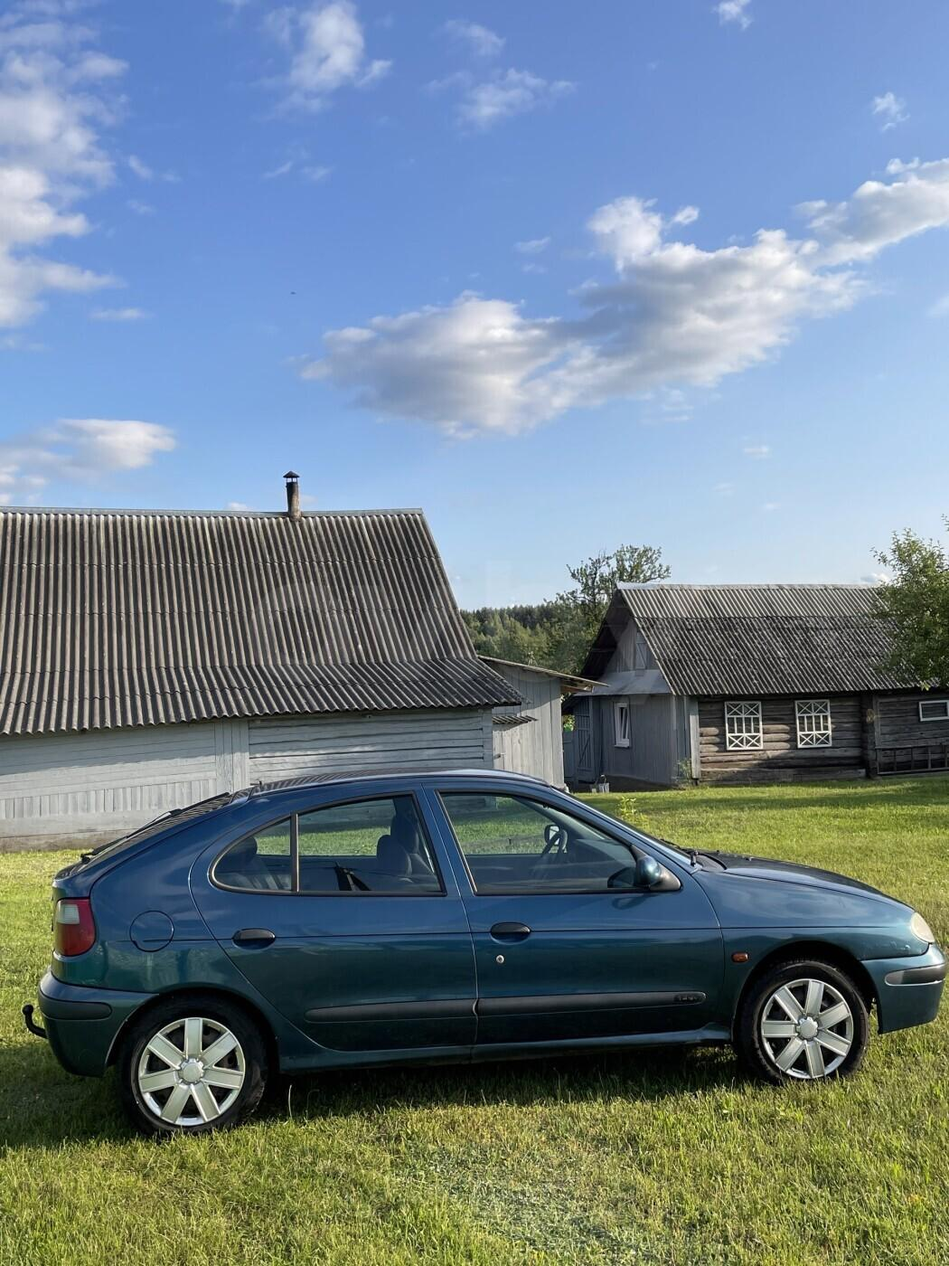Megane_1999-2003: (25, 758, 949, 1138)
